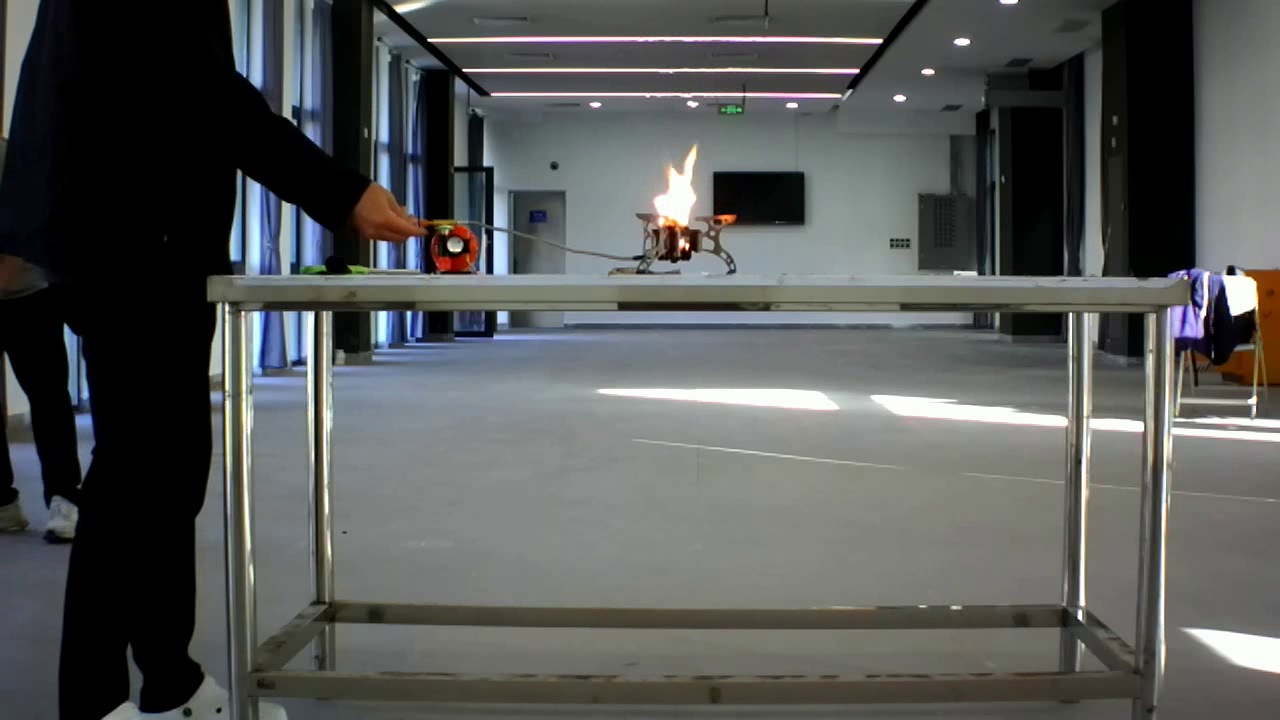Fire: (635, 136, 741, 263)
